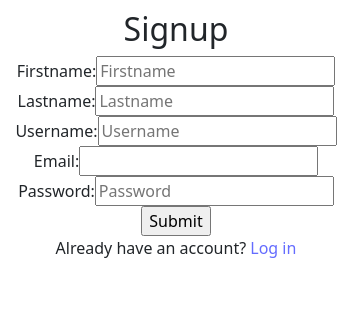
Test: Signup Page › displays an error message when no firstname is provided
Click the button: coordinates (176, 221) [141,206,211,236]
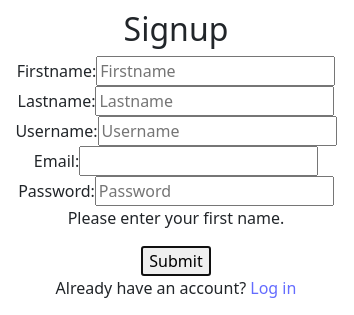
Now the text "Please enter your first name." is shown, box [68,207,284,229]
